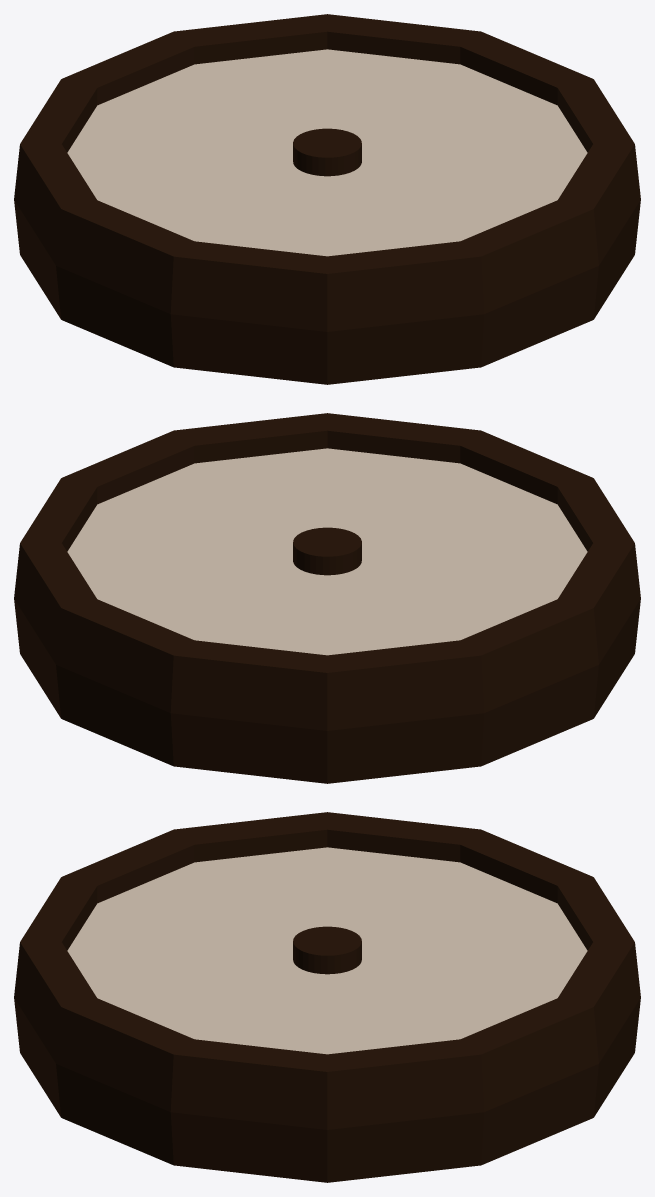
The model's file is MainClock.dae.
3 views of the same model, one above another, from view 1: azimuth 30°, elevation 25°; view 2: azimuth 150°, elevation 25°; view 3: azimuth 270°, elevation 25° (orthographic).
Visible parts, largest first — view 1: MainClock; view 2: MainClock; view 3: MainClock.
Boxes of the visible parts, bbox=[...] form: MainClock: bbox=[14, 14, 640, 384]; MainClock: bbox=[14, 413, 640, 783]; MainClock: bbox=[14, 812, 640, 1182].
Size of the model in its own units: 4 by 4 by 0.7864.
